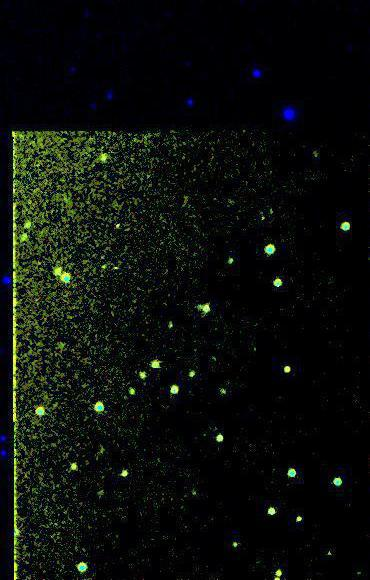star: (38, 251, 68, 281)
